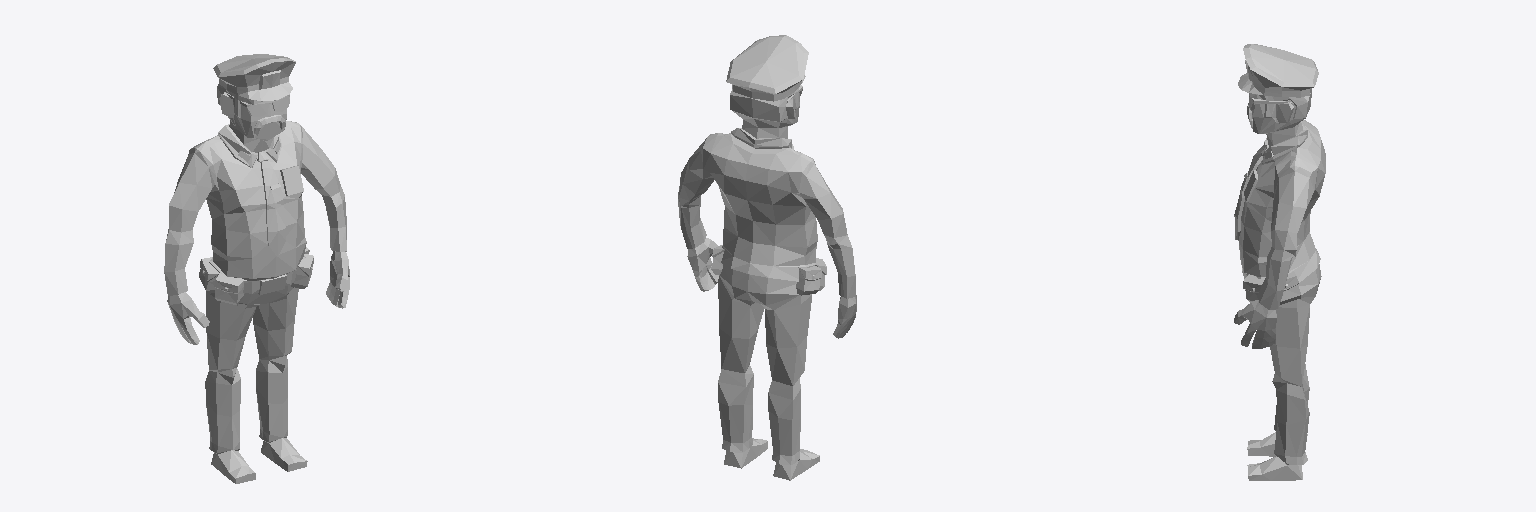
Rendered from Guard.obj.
The picture shows the model from 3 angles: view 1: azimuth 30°, elevation 25°; view 2: azimuth 150°, elevation 25°; view 3: azimuth 270°, elevation 25°; orthographic projection.
Parts seen in each view (by area): view 1: Character_Male_Police_Mesh; view 2: Character_Male_Police_Mesh; view 3: Character_Male_Police_Mesh.
Part boxes in pixels (bbox=[...]): Character_Male_Police_Mesh: bbox=[164, 54, 349, 483]; Character_Male_Police_Mesh: bbox=[678, 35, 856, 480]; Character_Male_Police_Mesh: bbox=[1234, 44, 1325, 480].
Bounding box in the file's own units: 0.8473 × 1.88 × 0.3755.